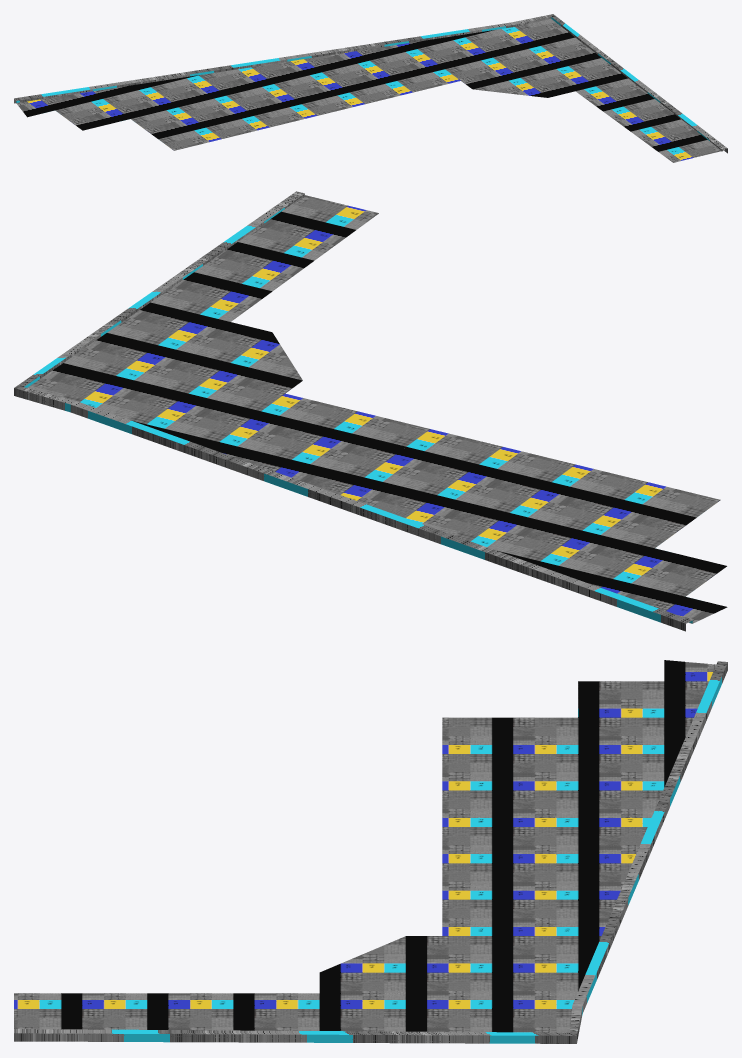
File: chinatown_sidewalk_1.fbx
The picture shows the model from 3 angles, top to bottom: view 1: azimuth 30°, elevation 25°; view 2: azimuth 150°, elevation 25°; view 3: azimuth 270°, elevation 25°; orthographic projection. The views are drawn at different scales.
Visible parts, largest first — view 1: chinatown_curb_1; view 2: chinatown_curb_1; view 3: chinatown_curb_1.
Part boxes in pixels (left/top/right/bottom): chinatown_curb_1: left=14, top=14, right=727, bottom=162; chinatown_curb_1: left=14, top=191, right=727, bottom=631; chinatown_curb_1: left=14, top=660, right=727, bottom=1043.
Bounding box in the file's own units: 1560 × 18.95 × 1241.
